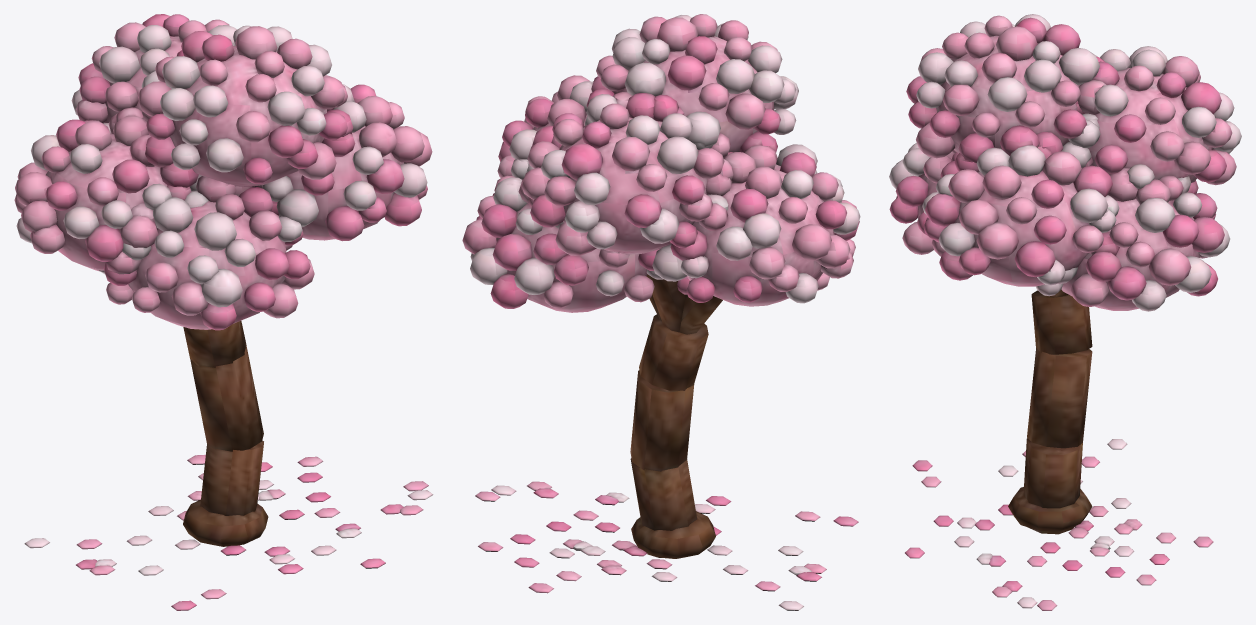
File: blossom_tree.glb
3 views of the same model, side by side, from view 1: azimuth 30°, elevation 25°; view 2: azimuth 150°, elevation 25°; view 3: azimuth 270°, elevation 25° (orthographic). The views are drawn at different scales.
Parts seen in each view (by area): view 1: blossom_tree; view 2: blossom_tree; view 3: blossom_tree.
Boxes of the visible parts, x1,y1,x2,y2 form: blossom_tree: [14, 14, 433, 610]; blossom_tree: [462, 14, 860, 610]; blossom_tree: [889, 14, 1241, 610].
Bounding box in the file's own units: 0.9231 × 1.18 × 0.7517.
1 material, 1 textured.
